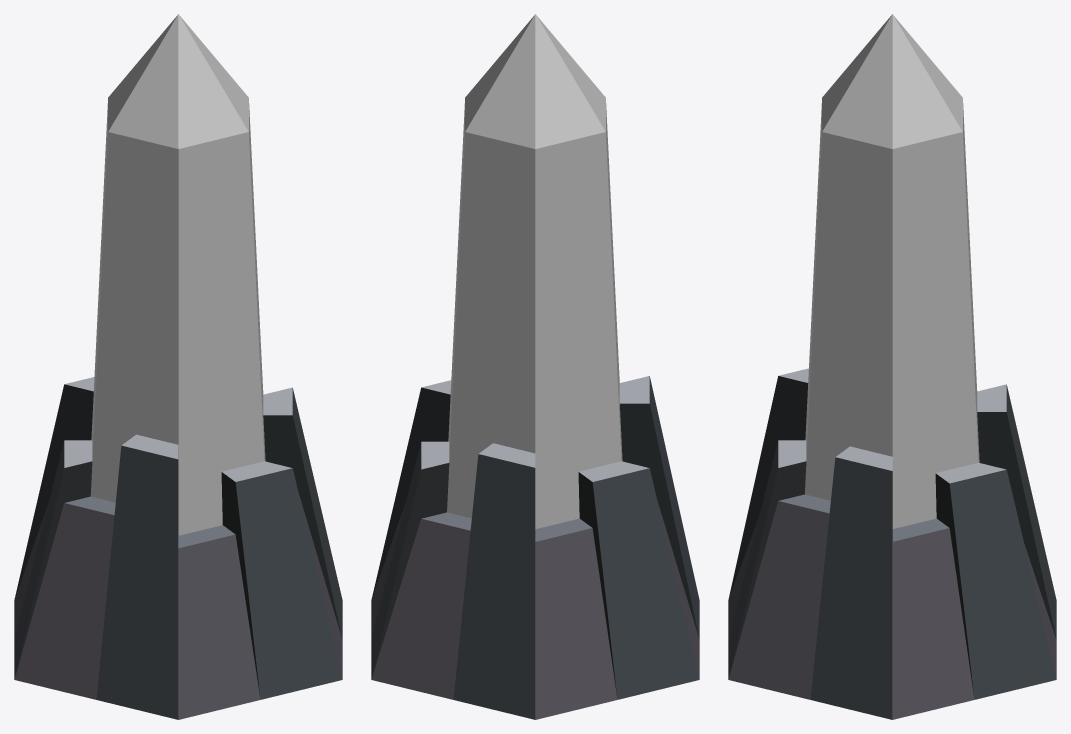
File: TB_Str_Crystal_H.FBX
The picture shows the model from 3 angles, left to right: view 1: azimuth 30°, elevation 25°; view 2: azimuth 150°, elevation 25°; view 3: azimuth 270°, elevation 25°; orthographic projection.
Parts seen in each view (by area): view 1: TB_Str_Crystal_H; view 2: TB_Str_Crystal_H; view 3: TB_Str_Crystal_H.
Part boxes in pixels (bbox=[...]): TB_Str_Crystal_H: bbox=[14, 14, 342, 719]; TB_Str_Crystal_H: bbox=[371, 14, 699, 719]; TB_Str_Crystal_H: bbox=[728, 14, 1056, 719].
Bounding box in the file's own units: 2.24 × 4.09 × 1.94.
